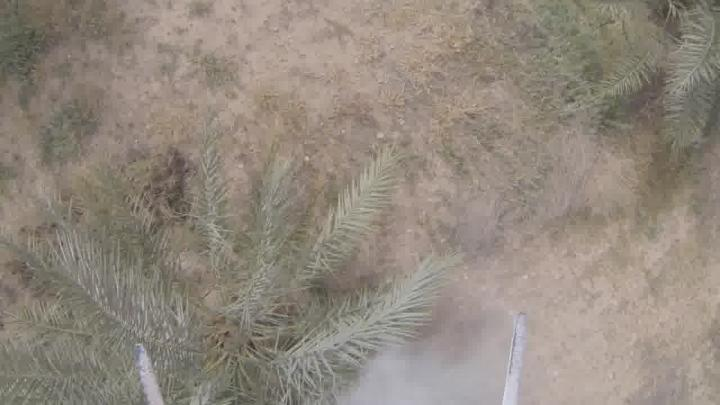Date-Palm-Crown: (95, 247, 377, 405), (628, 1, 720, 106)
